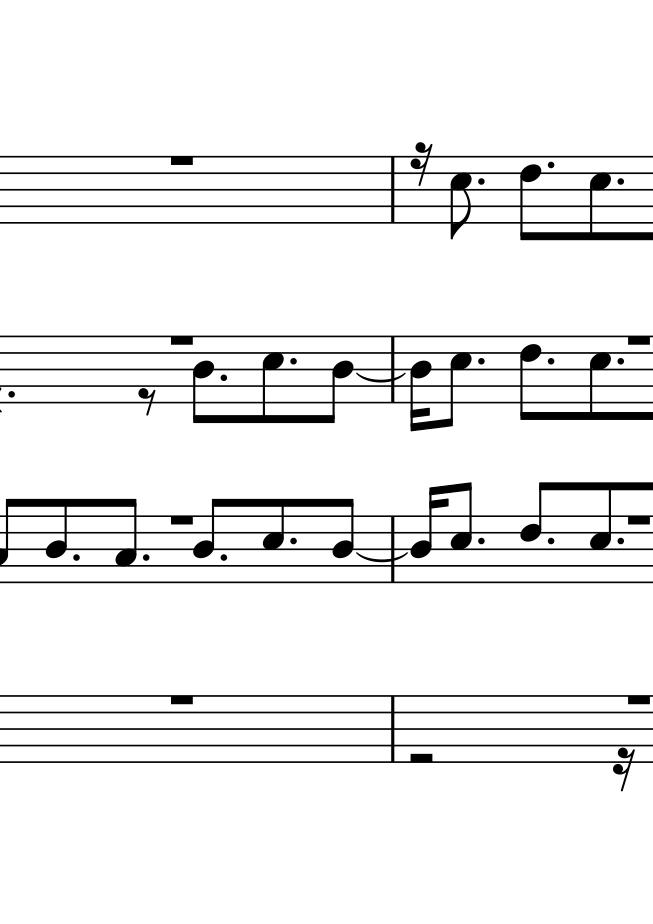16_4: (409, 484, 449, 584), (407, 333, 431, 434)
8_3: (112, 495, 139, 586)
8_4: (320, 334, 355, 427), (192, 497, 225, 583), (192, 333, 217, 427), (44, 496, 70, 585), (330, 495, 356, 584)
8_5: (441, 333, 471, 431), (588, 479, 615, 585), (449, 481, 474, 584), (259, 496, 287, 583), (260, 334, 286, 426), (588, 154, 612, 244), (588, 333, 612, 423), (449, 155, 473, 240)
8_6: (519, 479, 553, 584), (517, 333, 543, 423), (519, 155, 543, 244)
Rests1: (167, 511, 197, 532), (165, 691, 198, 710), (621, 690, 653, 709), (625, 332, 653, 353), (167, 150, 195, 169), (625, 510, 653, 529), (165, 331, 195, 347)
Rests16: (610, 747, 637, 786), (411, 142, 434, 185)
Rests2: (406, 747, 438, 767)
Rests8: (136, 384, 161, 419)
Single_barline: (384, 337, 402, 400), (384, 157, 400, 222), (384, 697, 400, 761), (385, 517, 400, 582)
Slur: (356, 372, 409, 383), (356, 553, 409, 563)
dot: (611, 355, 629, 369), (545, 157, 558, 172), (614, 174, 627, 189), (474, 356, 489, 369), (474, 533, 487, 547), (287, 354, 299, 369), (474, 175, 487, 187), (544, 534, 556, 547), (614, 534, 626, 546), (217, 371, 228, 384), (70, 551, 81, 564), (140, 551, 151, 563), (546, 355, 557, 367), (287, 535, 298, 547), (217, 551, 228, 563)
